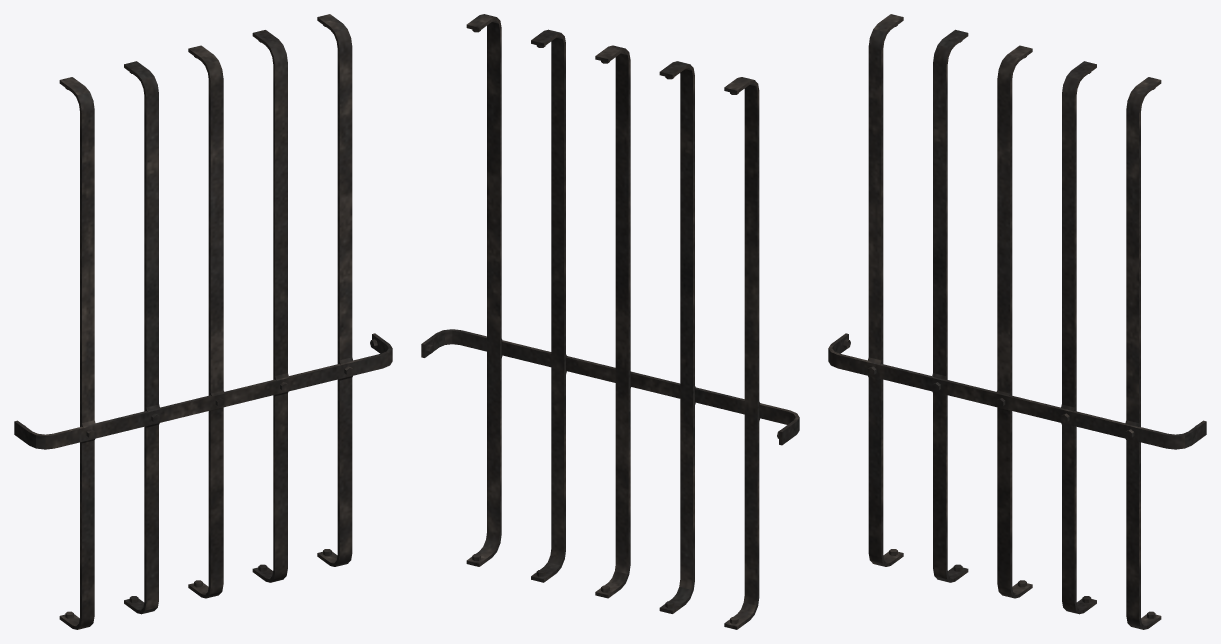
The model's file is window_metal_bars_single.obj.
3 renders of one model, left to right at view 1: azimuth 30°, elevation 25°; view 2: azimuth 150°, elevation 25°; view 3: azimuth 330°, elevation 25°, orthographic.
Parts seen in each view (by area): view 1: window_metal_bars_single; view 2: window_metal_bars_single; view 3: window_metal_bars_single.
Boxes of the visible parts, box(x1,y1,x2,y2) form: window_metal_bars_single: box(14, 14, 392, 629); window_metal_bars_single: box(421, 14, 799, 629); window_metal_bars_single: box(828, 14, 1206, 629).
Bounding box in the file's own units: 1.12 × 1.6 × 0.141.
